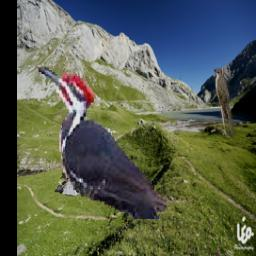Cuckoo: (215, 68, 236, 138)
Woodpecker: (37, 65, 173, 219)
